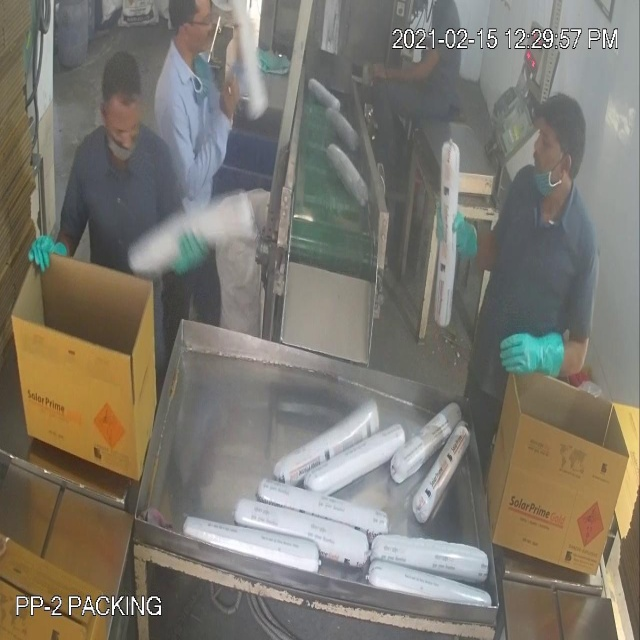Guantes: (493, 286, 577, 409), (432, 193, 501, 276), (23, 222, 67, 287)
Sin_guantes: (185, 67, 248, 205), (366, 38, 449, 97)
